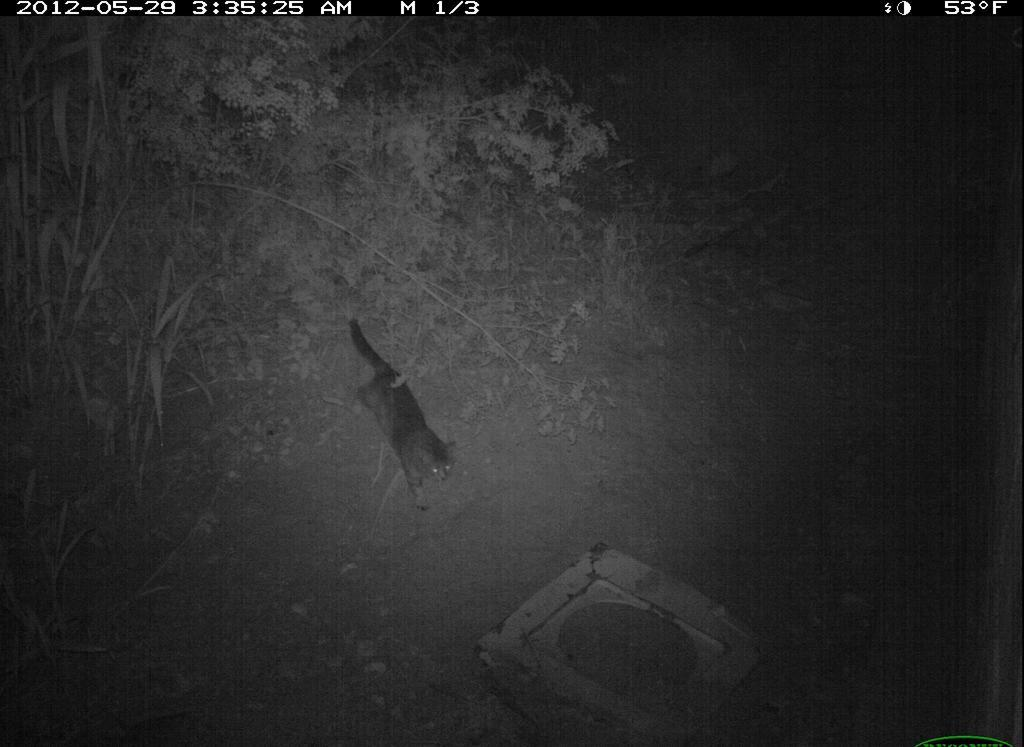cat: (333, 315, 472, 518)
